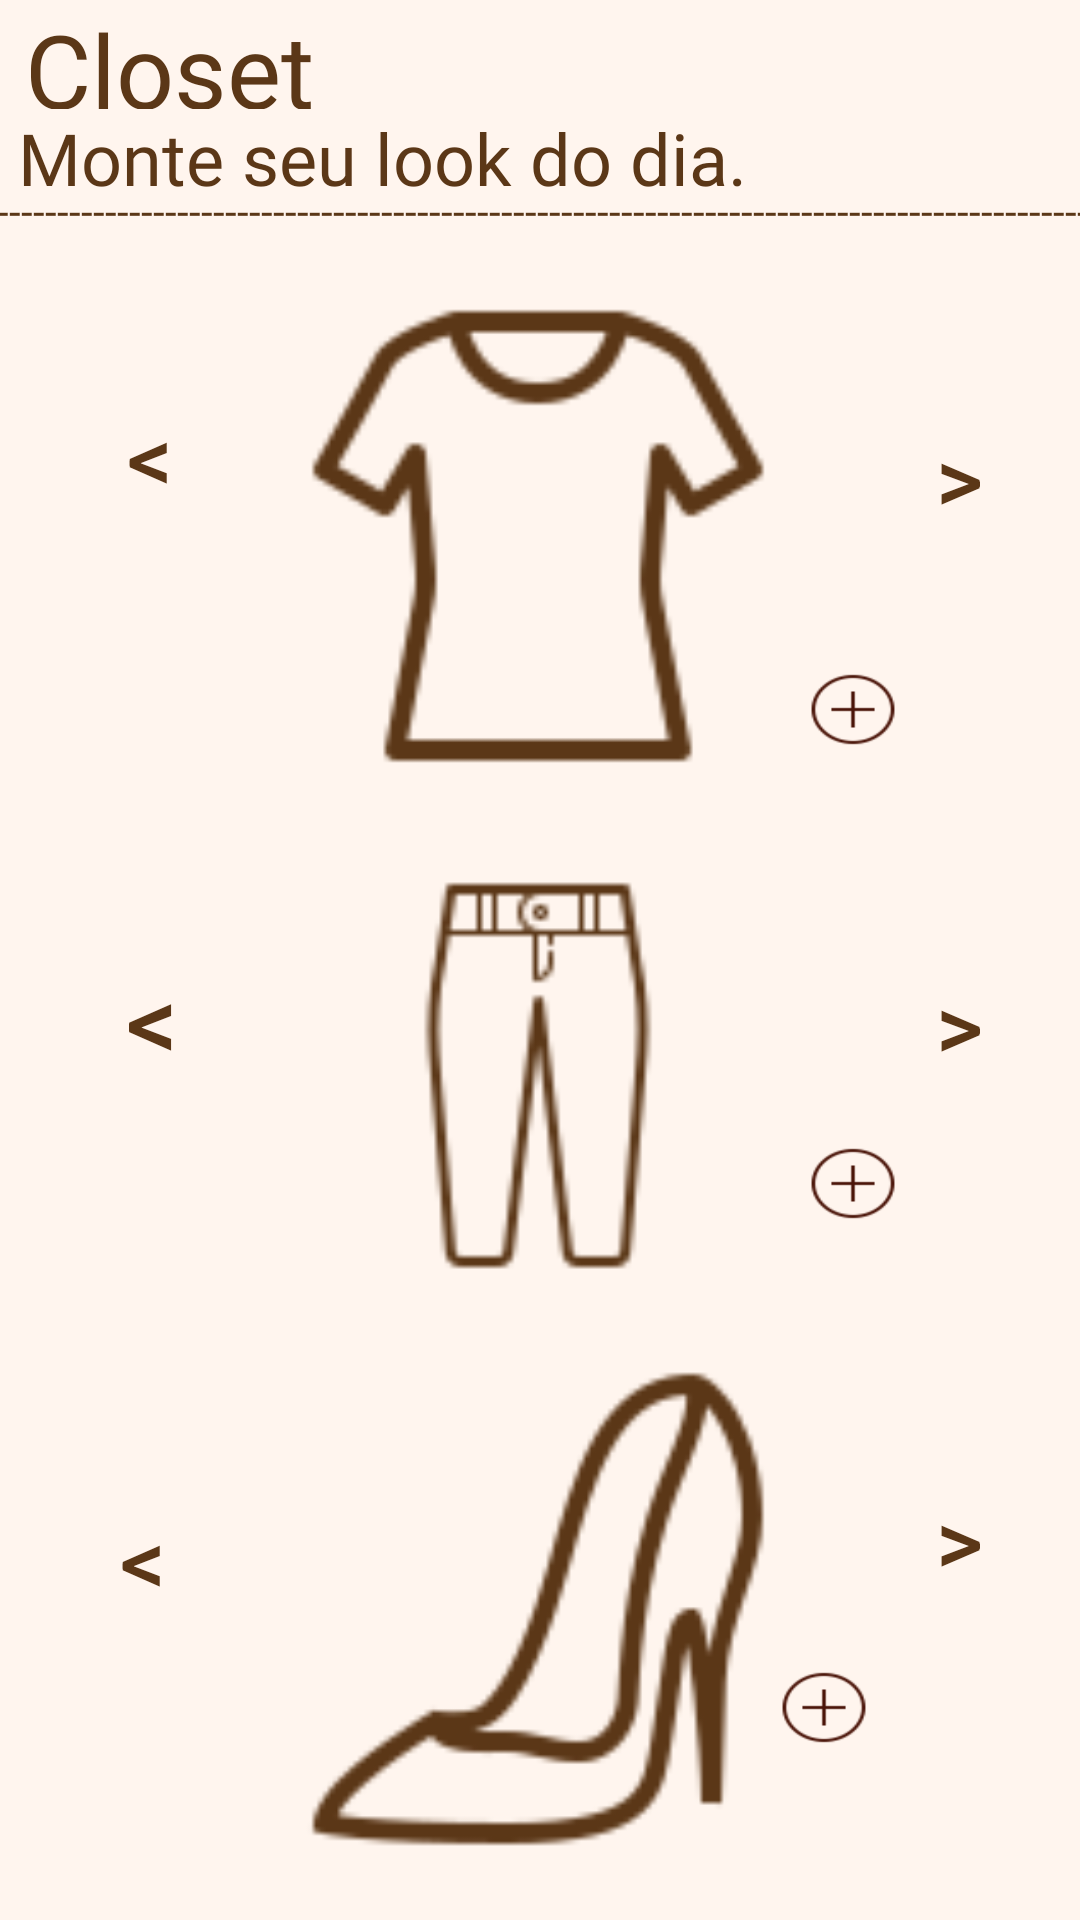

Named icons in this screenshot (1080px×1920px) and their bounding boxes, (x1, y1, x2, y2):
add: (811, 674, 895, 745), (811, 1148, 895, 1219), (782, 1672, 866, 1743)
